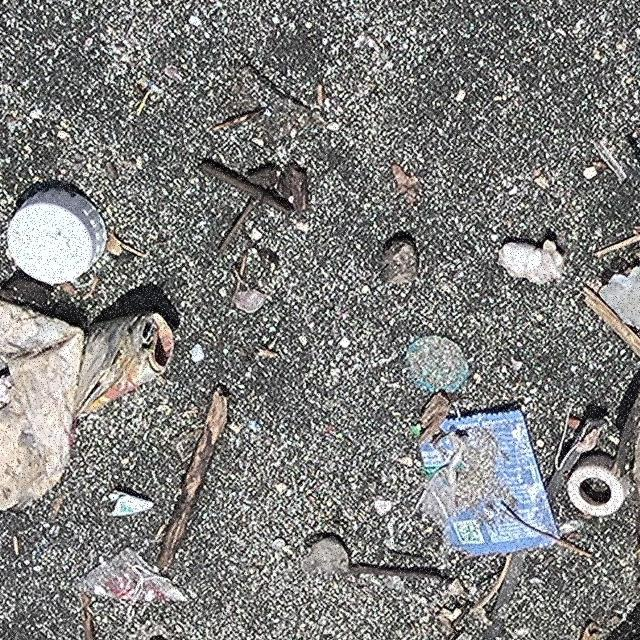plastic_waste: (414, 411, 561, 556), (8, 189, 108, 285)
